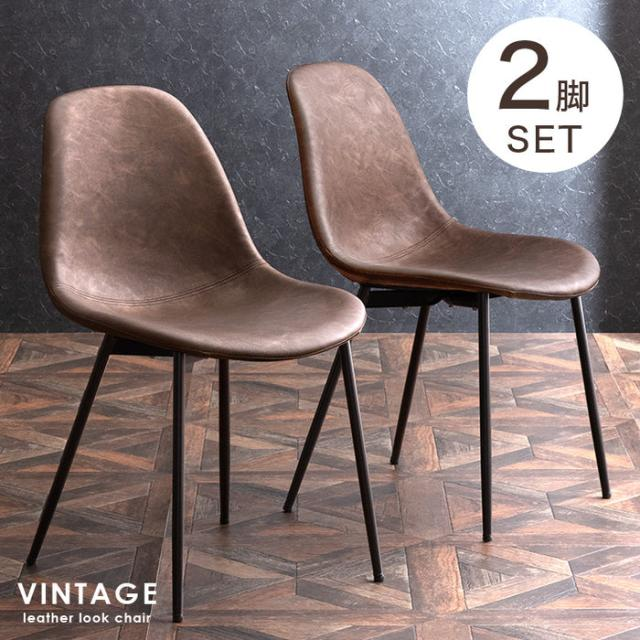chair vintage: (20, 81, 387, 626)
